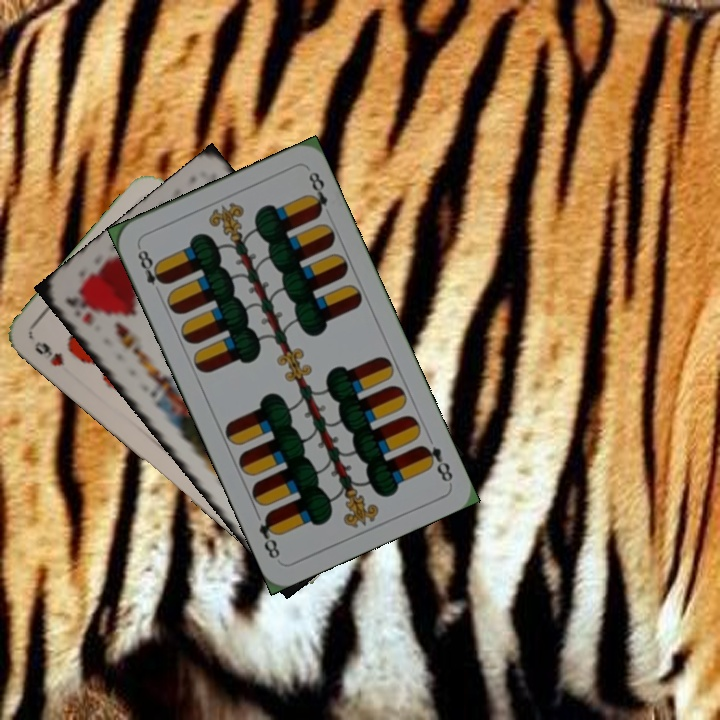E8: (133, 242, 169, 298), (416, 441, 456, 485)
H9: (30, 337, 67, 369)
HK: (62, 286, 100, 328)
